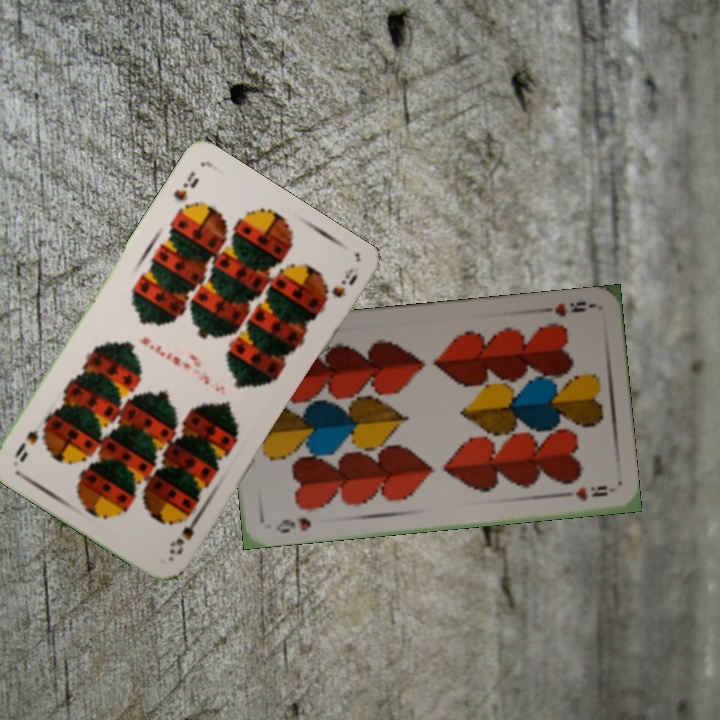H9: (537, 297, 596, 320), (272, 513, 314, 536)
S9: (165, 508, 205, 561), (169, 167, 202, 204)
